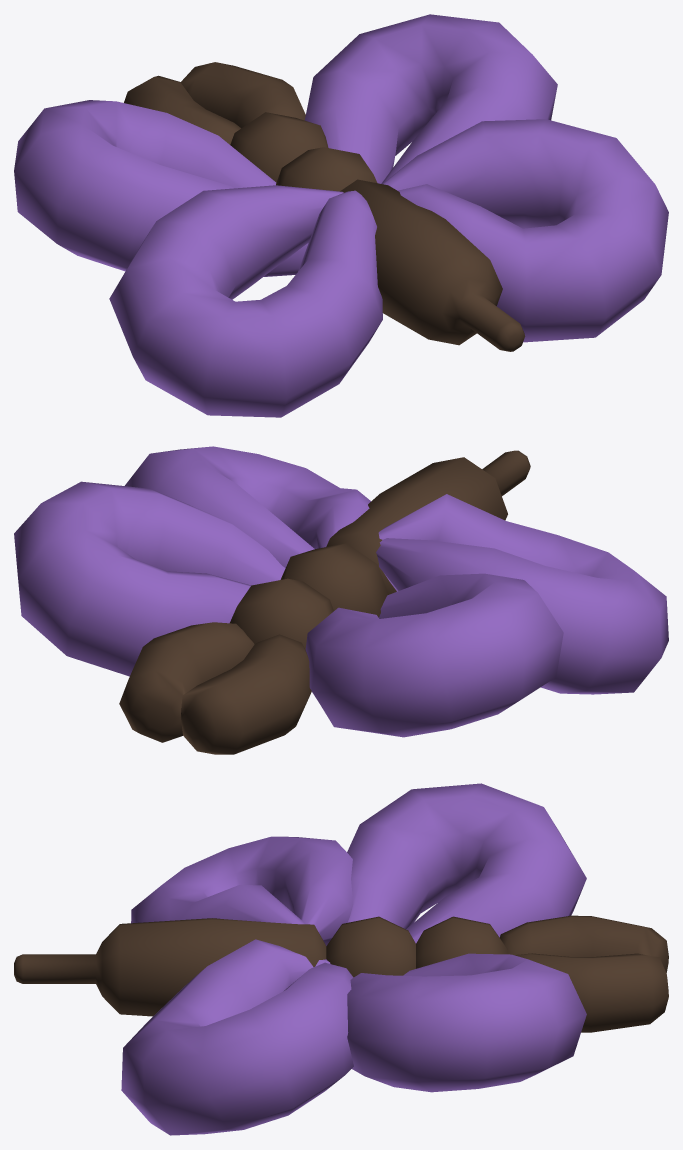
File: BalloonButterfly_01.fbx
3 views of the same model, one above another, from view 1: azimuth 30°, elevation 25°; view 2: azimuth 150°, elevation 25°; view 3: azimuth 270°, elevation 25° (orthographic). The views are drawn at different scales.
Visible parts, largest first — view 1: BalloonButterfly_01; view 2: BalloonButterfly_01; view 3: BalloonButterfly_01.
Part boxes in pixels (x1,y1,x2,y2): BalloonButterfly_01: (14, 14, 668, 417); BalloonButterfly_01: (14, 446, 668, 754); BalloonButterfly_01: (14, 783, 668, 1135).
Size of the model in its own units: 0.2725 by 0.0925 by 0.3127.
